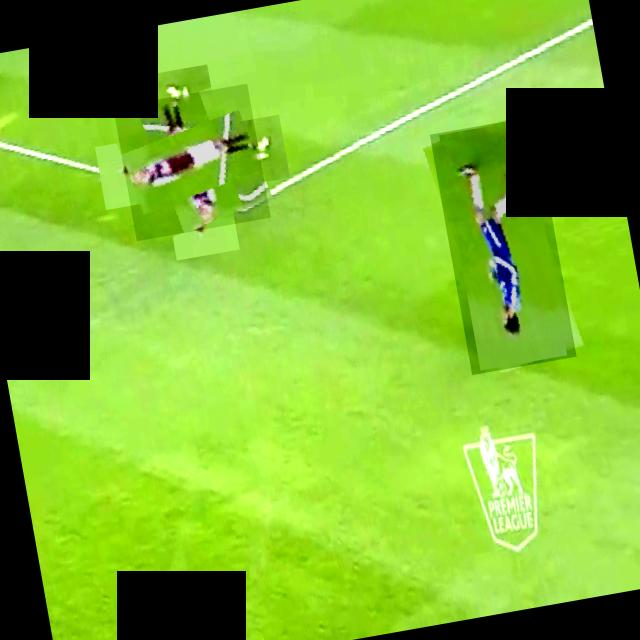soccer-player: (428, 116, 575, 374), (112, 82, 270, 240)
